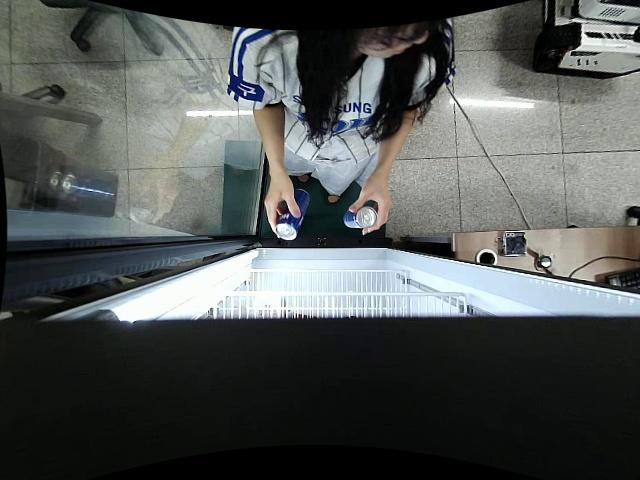00_hand: (347, 178, 391, 235), (263, 177, 301, 239)
16_hot6: (272, 185, 310, 239), (342, 207, 378, 230)
